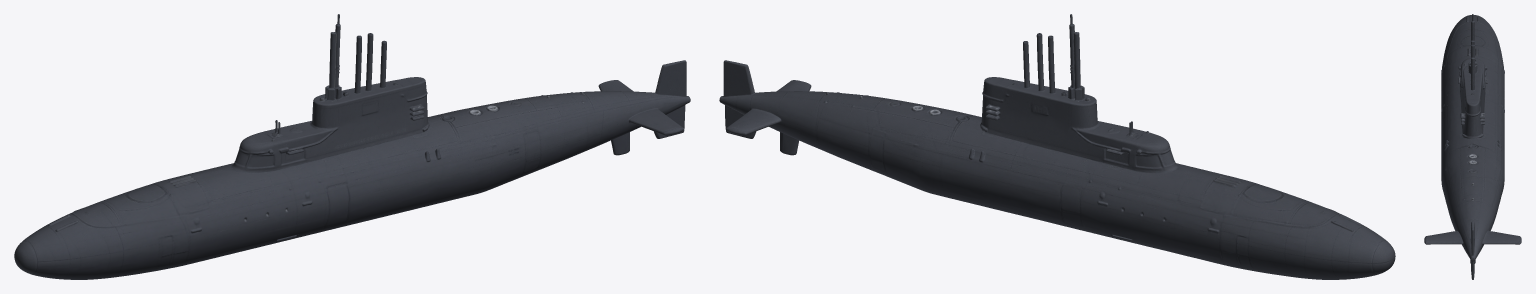
The model's file is submarine.glb.
3 renders of one model, left to right at view 1: azimuth 30°, elevation 25°; view 2: azimuth 150°, elevation 25°; view 3: azimuth 270°, elevation 25°, orthographic. The views are drawn at different scales.
Size of the model in its own units: 1.9 by 0.5661 by 0.3329.
Materials: 1 (1 with a texture image).
